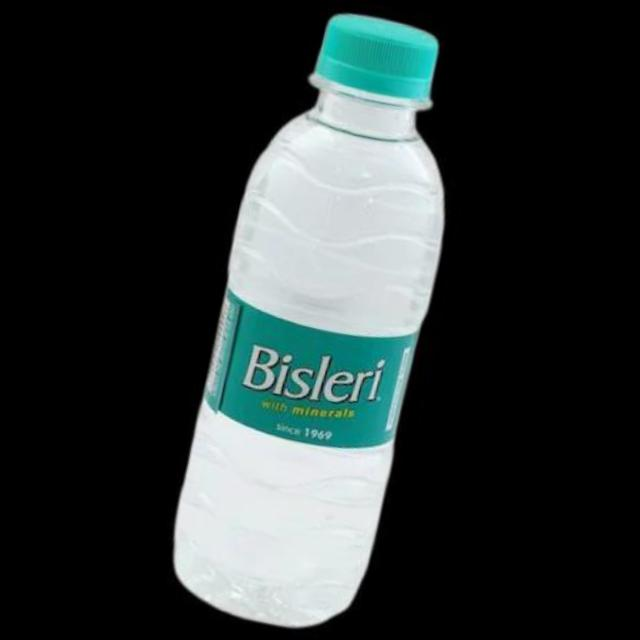Bisleri Packaged Drinking Water 250 ml: (149, 0, 489, 640)
